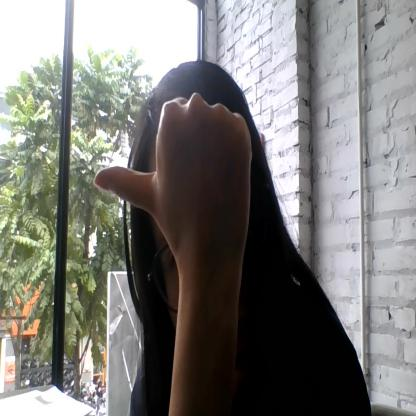right: (94, 92, 249, 262)
